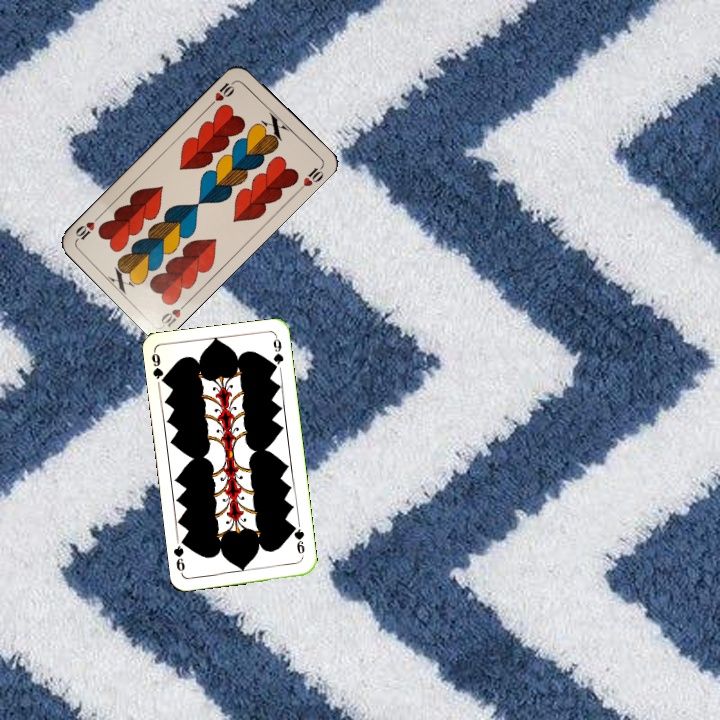G9: (148, 348, 170, 387), (288, 521, 307, 561)
H10: (157, 297, 192, 329), (206, 76, 239, 109)
